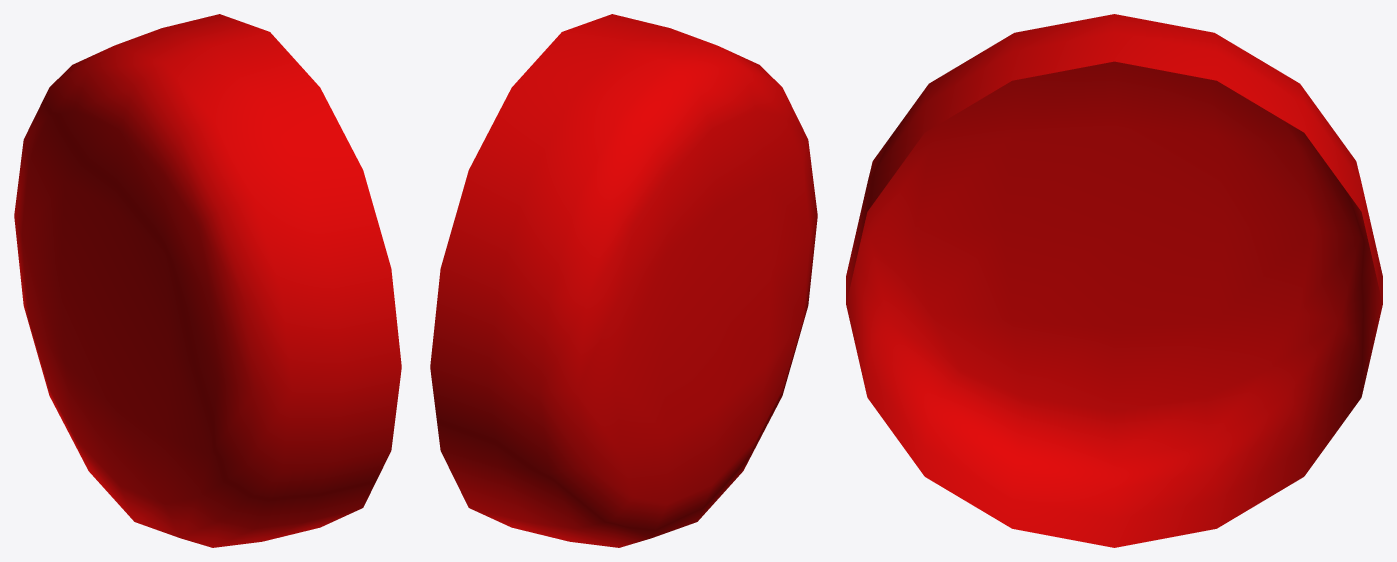
The model's file is button_red.FBX.
3 views of the same model, side by side, from view 1: azimuth 30°, elevation 25°; view 2: azimuth 150°, elevation 25°; view 3: azimuth 270°, elevation 25° (orthographic).
Parts seen in each view (by area): view 1: Object168; view 2: Object168; view 3: Object168.
Boxes of the visible parts, bbox=[...] form: Object168: bbox=[14, 14, 401, 547]; Object168: bbox=[430, 14, 817, 547]; Object168: bbox=[846, 14, 1382, 547].
Bounding box in the file's own units: 0.0482 × 0.142 × 0.142.
